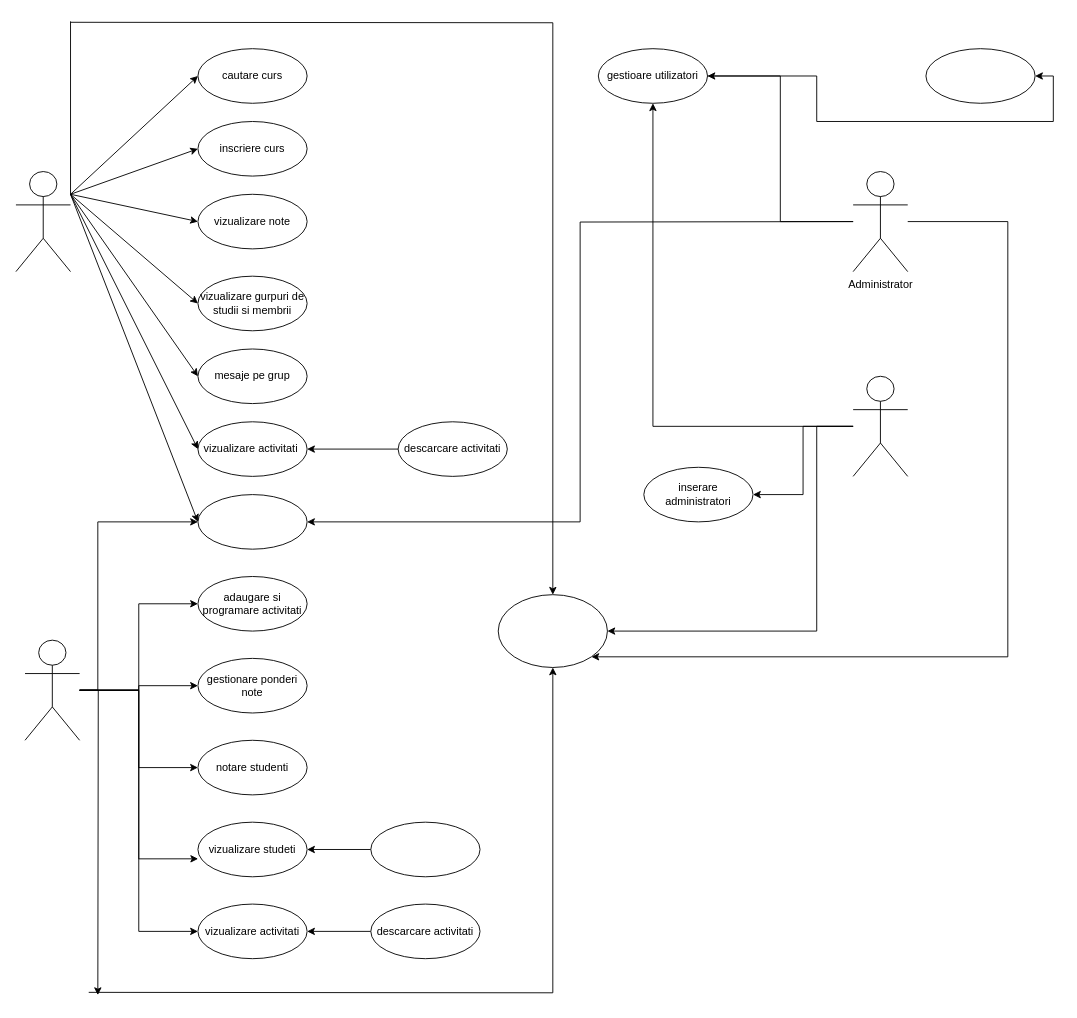
This 1077x1018 diagram has some shape labels left out. The centre of each missing label's shape, as x and y in pixels:
descarcare catalog: pixel 425 849
inserari, stergeri, update-uri: pixel 980 75
LOG IN: pixel 552 630
Profesor: pixel 52 689
Student: pixel 43 221
Super-Administrator: pixel 880 425
vizualizare profil: pixel 252 521
